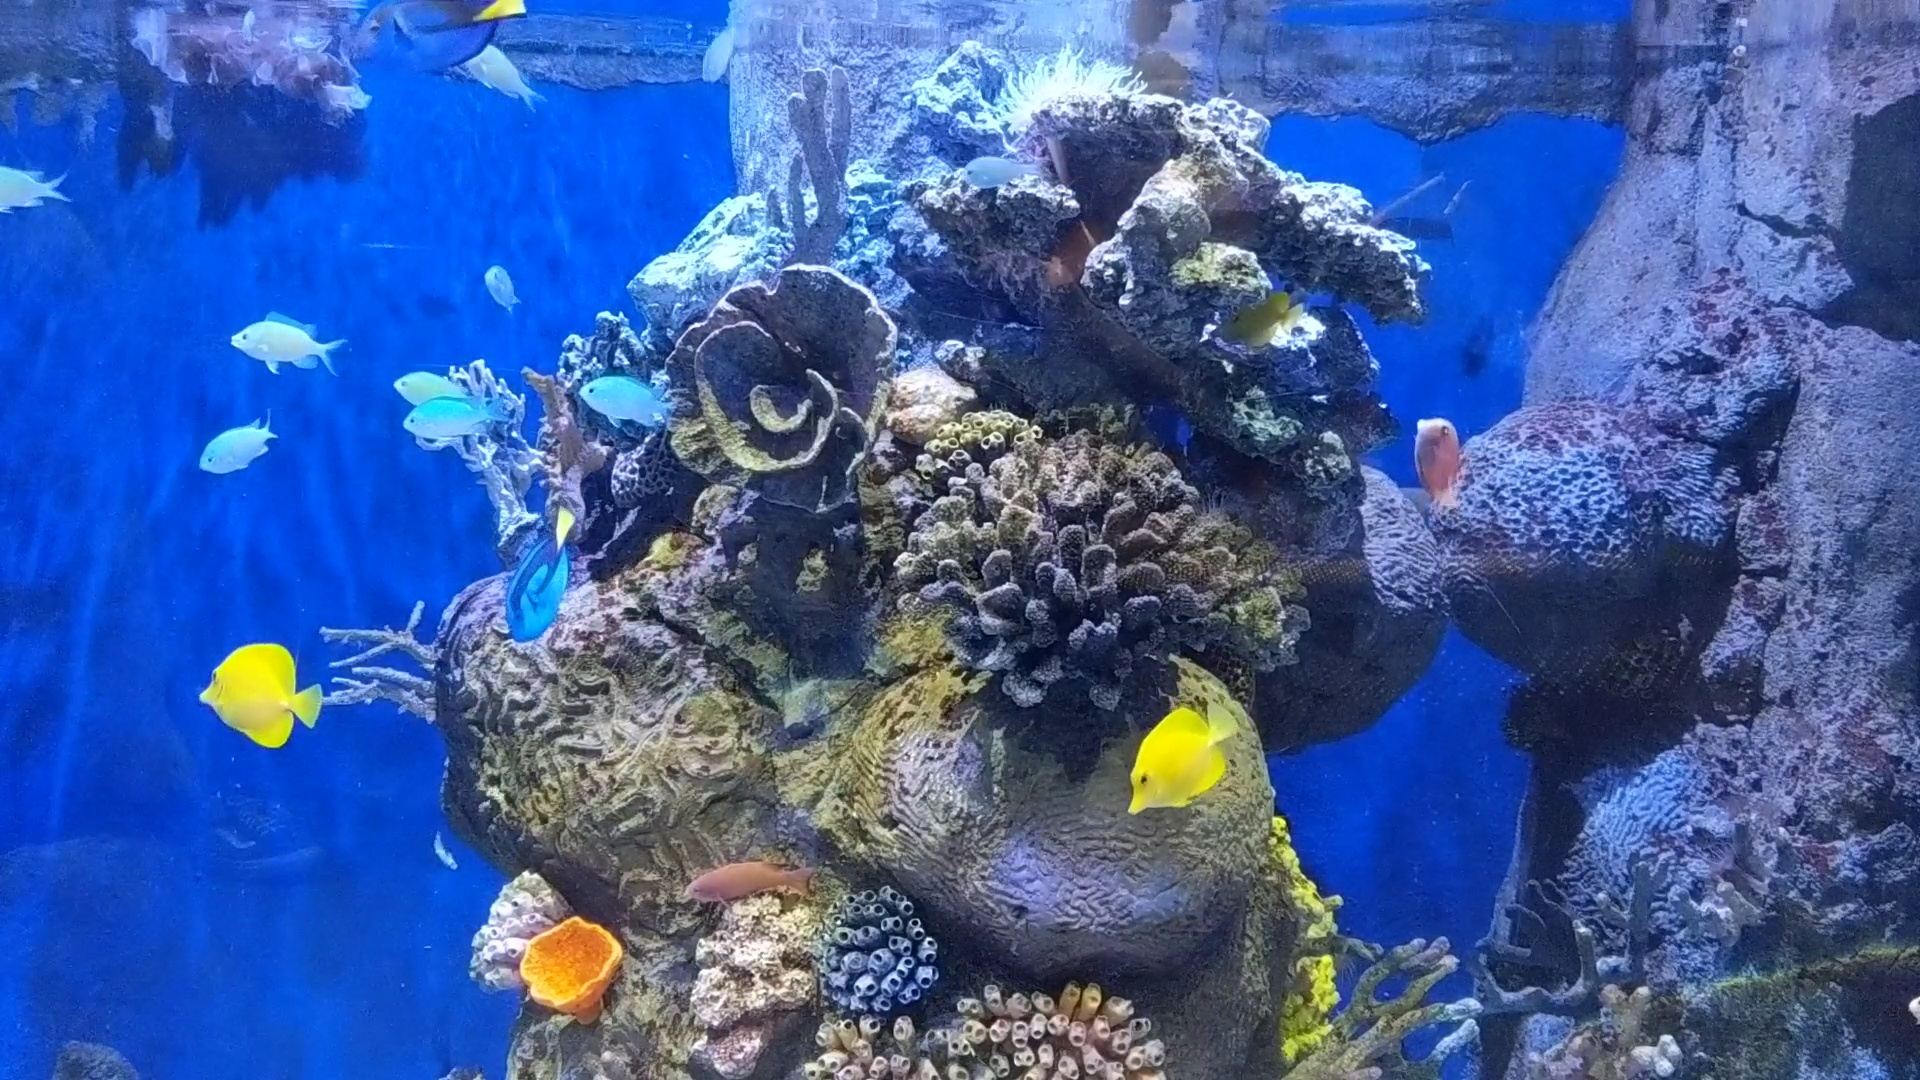blue tang surgeonfish: (502, 500, 580, 644)
damselfish: (204, 294, 349, 394), (186, 404, 286, 476), (570, 372, 680, 434), (402, 400, 495, 448), (386, 371, 468, 419), (947, 160, 1044, 195)
pink fish: (1400, 396, 1482, 516)
saddle butterfly fish: (189, 628, 334, 754), (1124, 694, 1230, 811)
